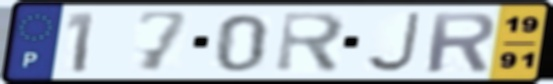0: (215, 11, 274, 73)
1: (64, 10, 99, 75)
7: (133, 9, 190, 76)
J: (362, 11, 424, 75)
R: (273, 9, 350, 75), (424, 10, 498, 74)
